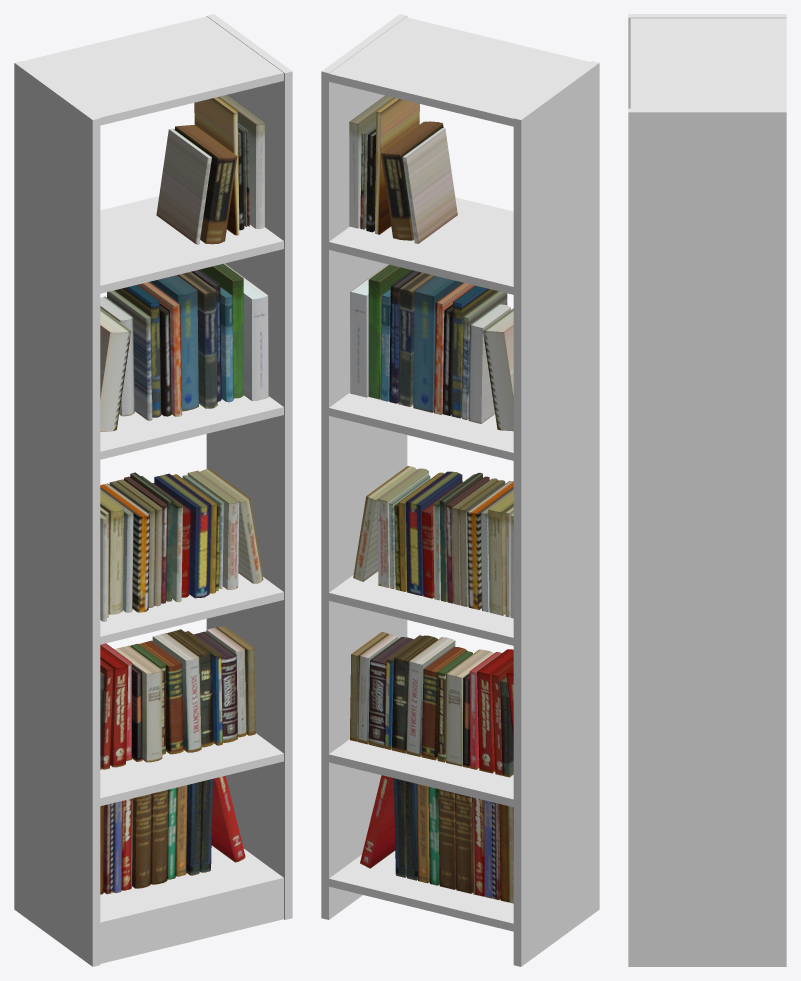
File: bookshelf.FBX
3 renders of one model, left to right at view 1: azimuth 30°, elevation 25°; view 2: azimuth 150°, elevation 25°; view 3: azimuth 270°, elevation 25°, orthographic.
Parts seen in each view (by area): view 1: bookshelf; view 2: bookshelf; view 3: bookshelf.
Part boxes in pixels (box(x1,y1,x2,y2)): bookshelf: box(14, 14, 292, 966); bookshelf: box(321, 14, 599, 966); bookshelf: box(628, 14, 786, 966).
Bounding box in the file's own units: 19.68 × 79.7 × 13.39.
